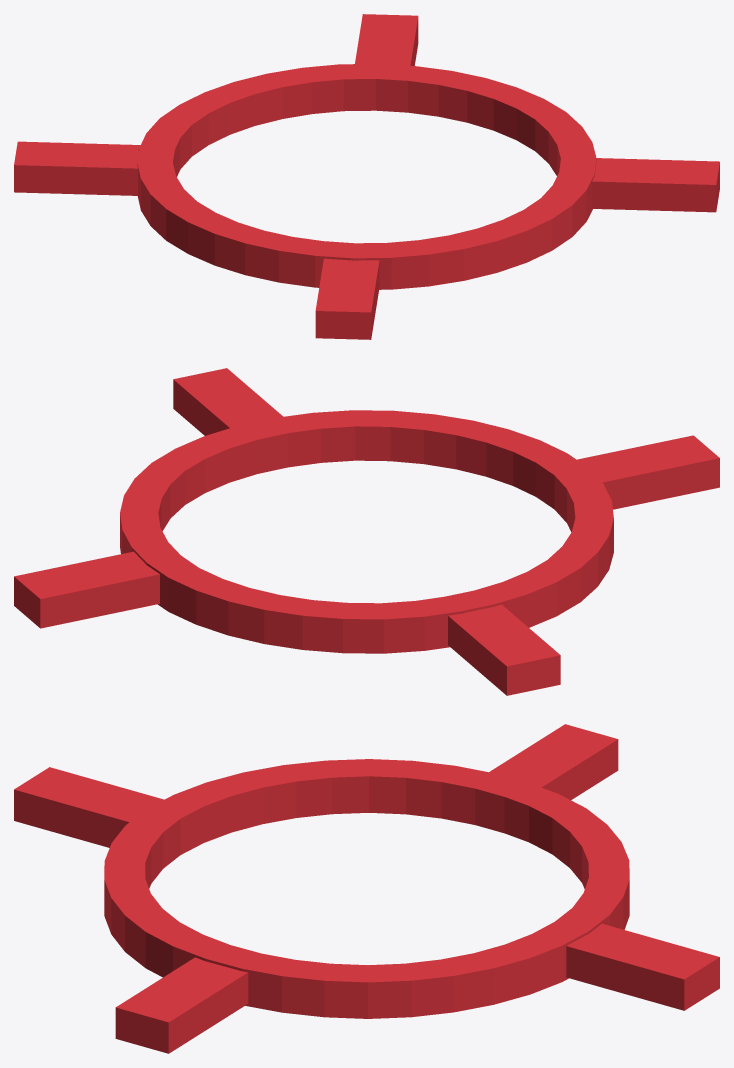
The model's file is Pointer circle.fbx.
3 views of the same model, one above another, from view 1: azimuth 30°, elevation 25°; view 2: azimuth 150°, elevation 25°; view 3: azimuth 270°, elevation 25° (orthographic). The views are drawn at different scales.
Visible parts, largest first — view 1: Plane; view 2: Plane; view 3: Plane.
Boxes of the visible parts, x1,y1,x2,y2 form: Plane: [14, 14, 719, 339]; Plane: [14, 368, 719, 695]; Plane: [14, 724, 719, 1053].
Bounding box in the file's own units: 494 × 28.21 × 494.
